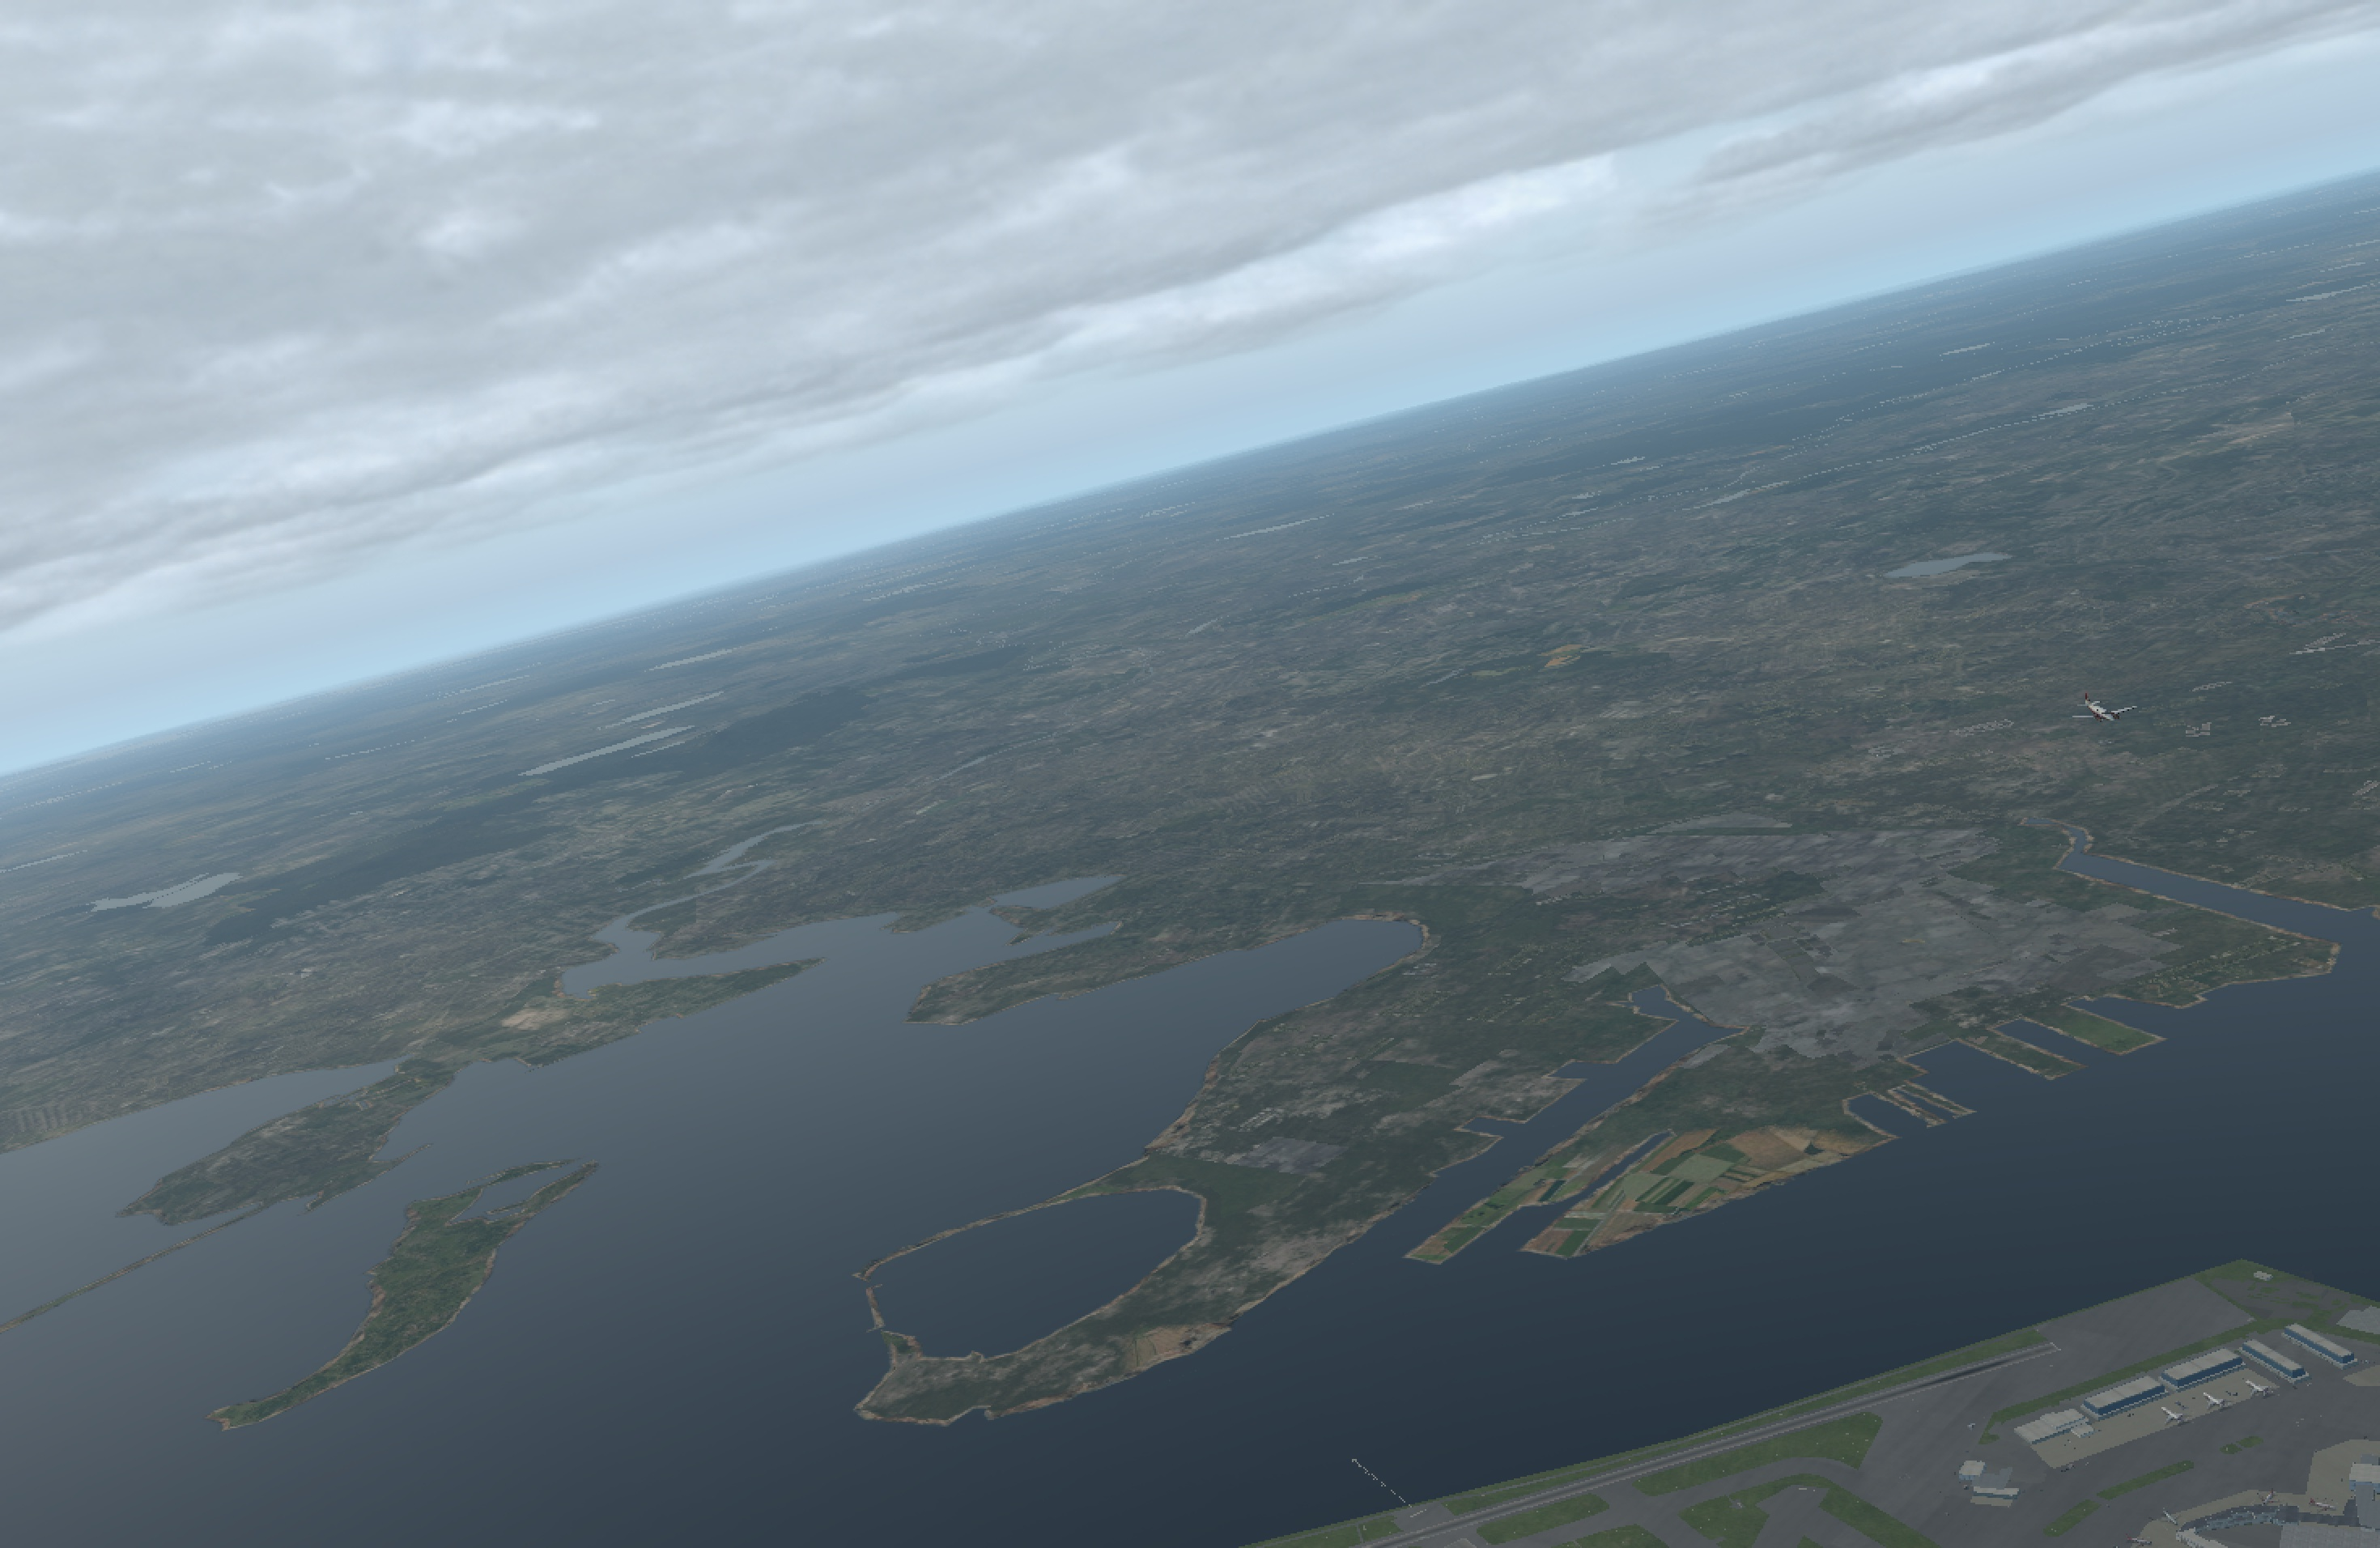aircraft: (2069, 705, 2137, 729)
